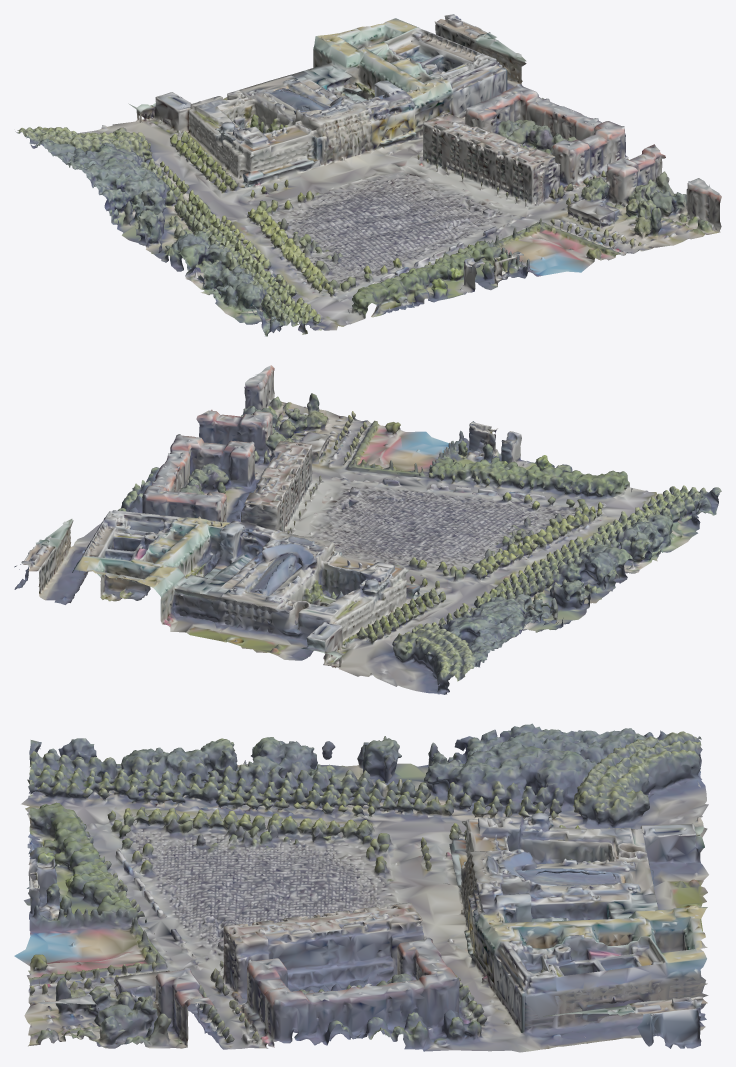
Rendered from surface-detail-3898_58193.glb.
3 views of the same model, one above another, from view 1: azimuth 30°, elevation 25°; view 2: azimuth 150°, elevation 25°; view 3: azimuth 270°, elevation 25° (orthographic). The views are drawn at different scales.
Parts seen in each view (by area): view 1: world; view 2: world; view 3: world.
Boxes of the visible parts, <box> form: world: <box>15,14,721,336</box>; world: <box>14,365,721,694</box>; world: <box>14,723,708,1052</box>.
Size of the model in its own units: 369 by 40.34 by 381.
